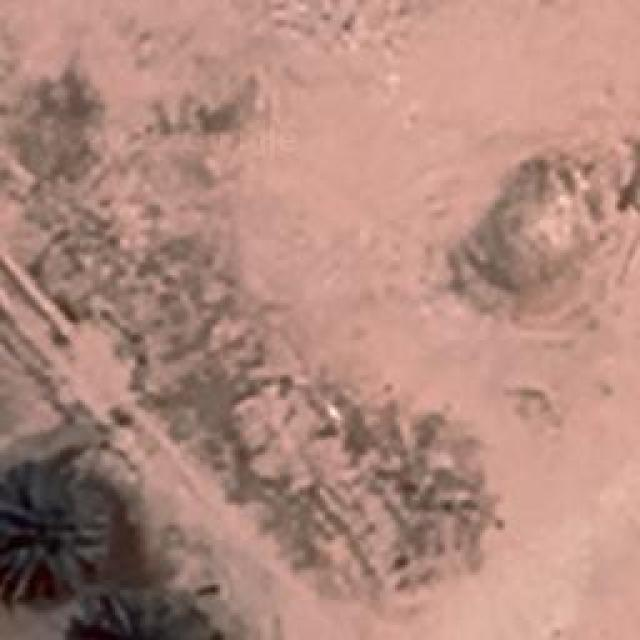PalmTree: (0, 478, 105, 600), (78, 587, 203, 640)
